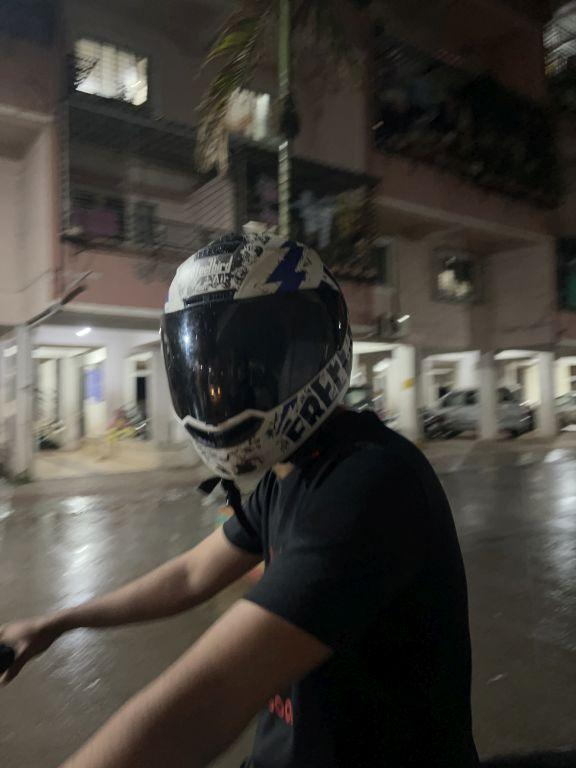helmet: (157, 214, 357, 489)
